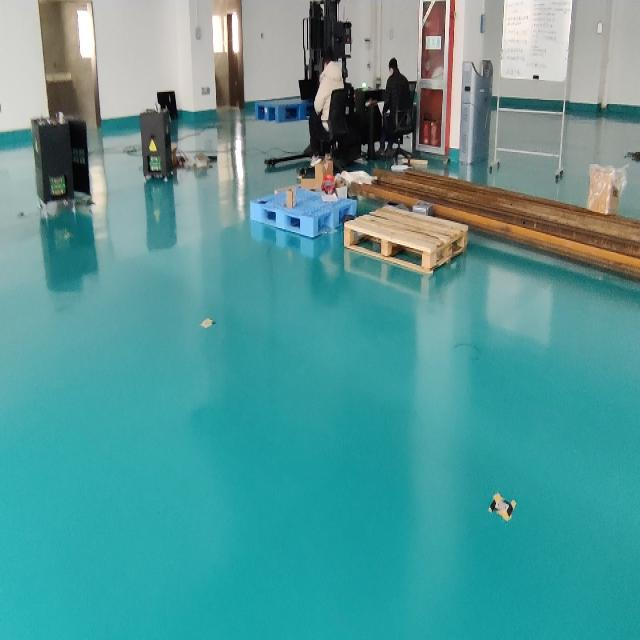euro: (345, 204, 467, 273)
